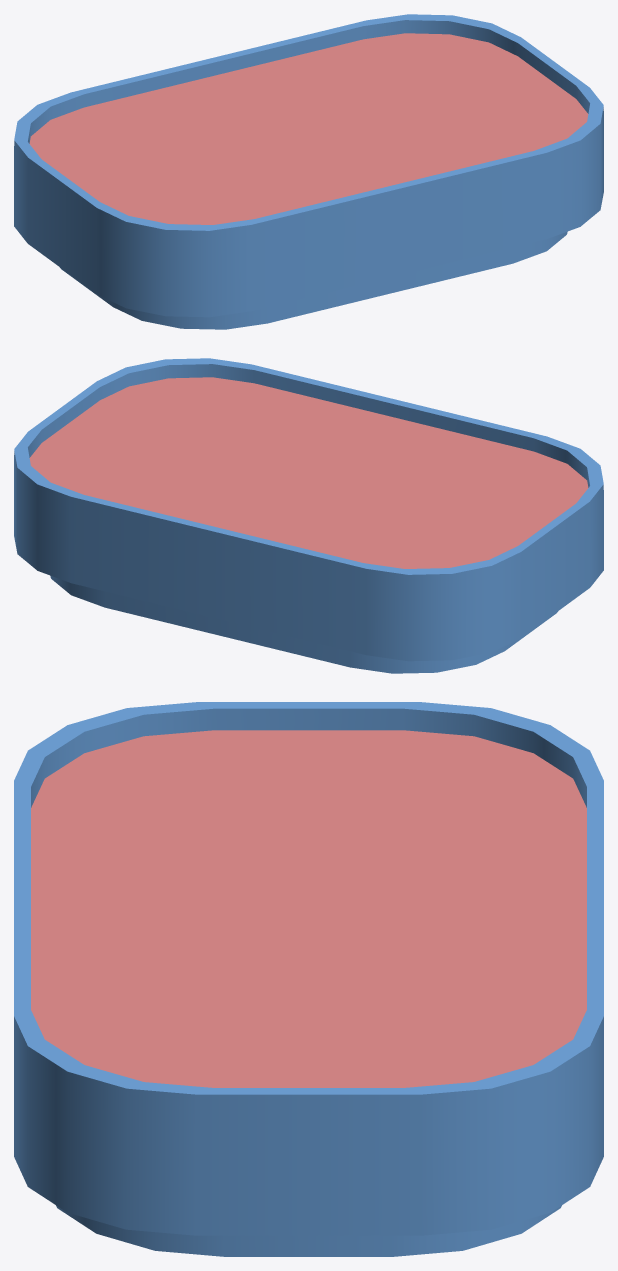
File: FruitStand.fbx
3 renders of one model, top to bottom at view 1: azimuth 30°, elevation 25°; view 2: azimuth 150°, elevation 25°; view 3: azimuth 270°, elevation 25°, orthographic. The views are drawn at different scales.
Visible parts, largest first — view 1: Cube.003; view 2: Cube.003; view 3: Cube.003.
Boxes of the visible parts, x1,y1,x2,y2 form: Cube.003: [14, 14, 603, 329]; Cube.003: [14, 358, 603, 673]; Cube.003: [14, 702, 603, 1256].
Bounding box in the file's own units: 3.62 × 0.7813 × 2.3.
